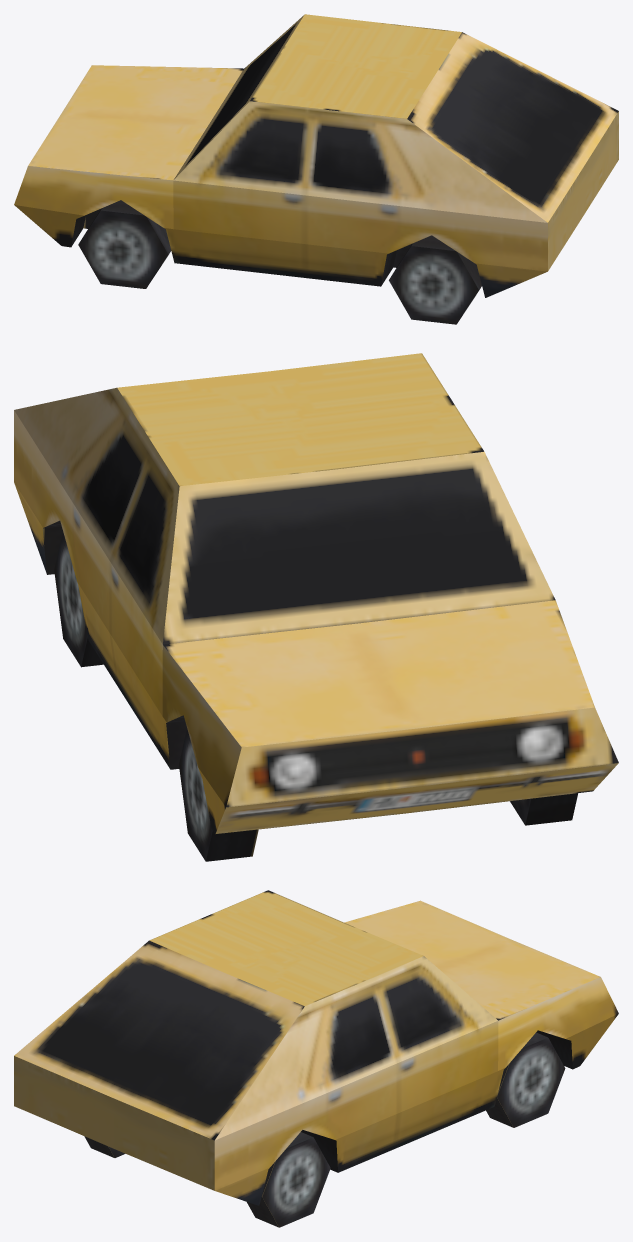
Rendered from Car.fbx.
3 views of the same model, one above another, from view 1: azimuth 30°, elevation 25°; view 2: azimuth 150°, elevation 25°; view 3: azimuth 270°, elevation 25° (orthographic). The views are drawn at different scales.
Parts seen in each view (by area): view 1: Car; view 2: Car; view 3: Car.
Boxes of the visible parts, x1,y1,x2,y2 form: Car: (14, 14, 618, 324); Car: (14, 353, 618, 861); Car: (14, 890, 618, 1227).
Size of the model in its own units: 1249 by 448 by 1249.
